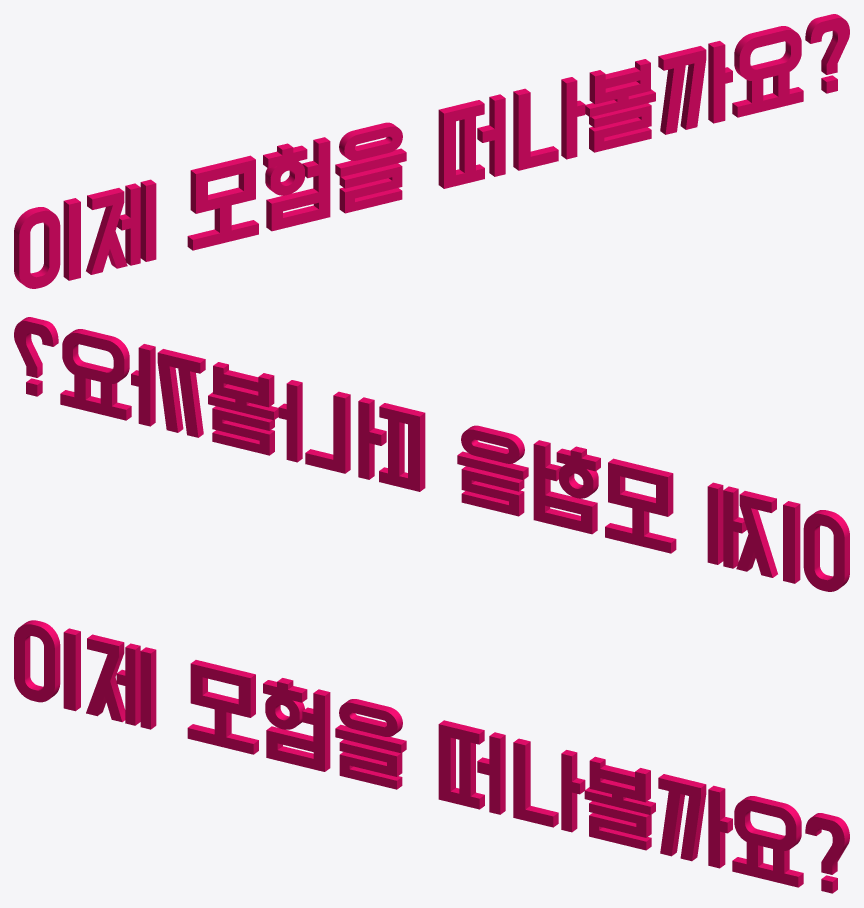
Rendered from synop3.FBX.
3 views of the same model, one above another, from view 1: azimuth 30°, elevation 25°; view 2: azimuth 150°, elevation 25°; view 3: azimuth 330°, elevation 25° (orthographic).
Visible parts, largest first — view 1: Text019; view 2: Text019; view 3: Text019.
Part boxes in pixels (x1,y1,x2,y2): Text019: [14, 14, 849, 288]; Text019: [14, 317, 849, 591]; Text019: [14, 620, 849, 893].
Bounding box in the file's own units: 900 × 81.6 × 10.
